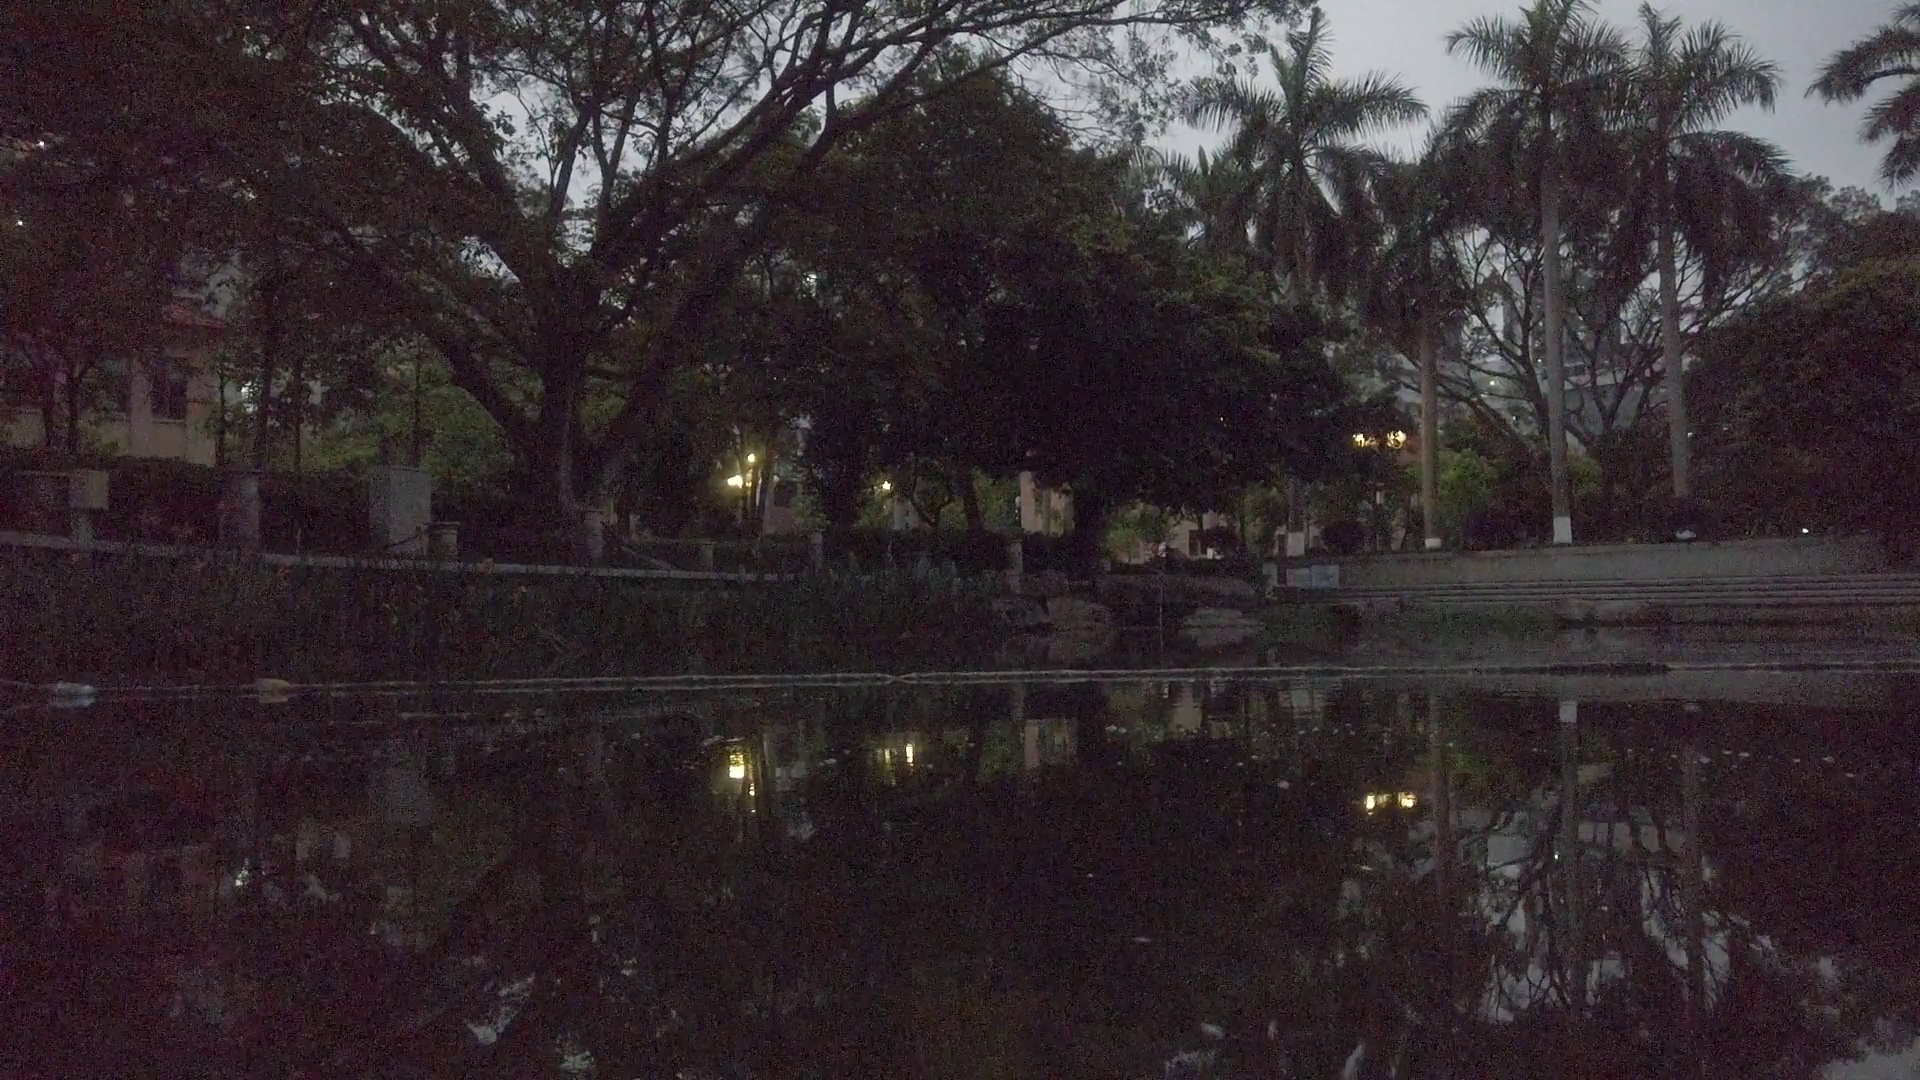bottle: (53, 682, 98, 700), (257, 676, 291, 698)
